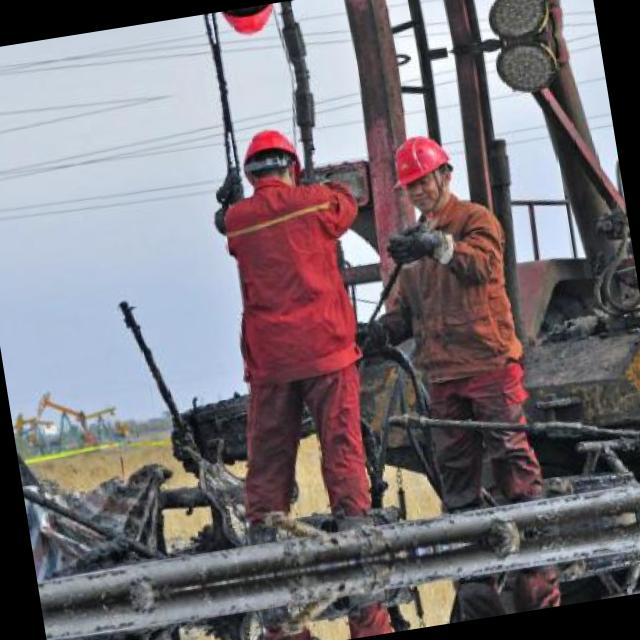helmet: (384, 125, 464, 218), (232, 117, 310, 202), (214, 2, 288, 47)
